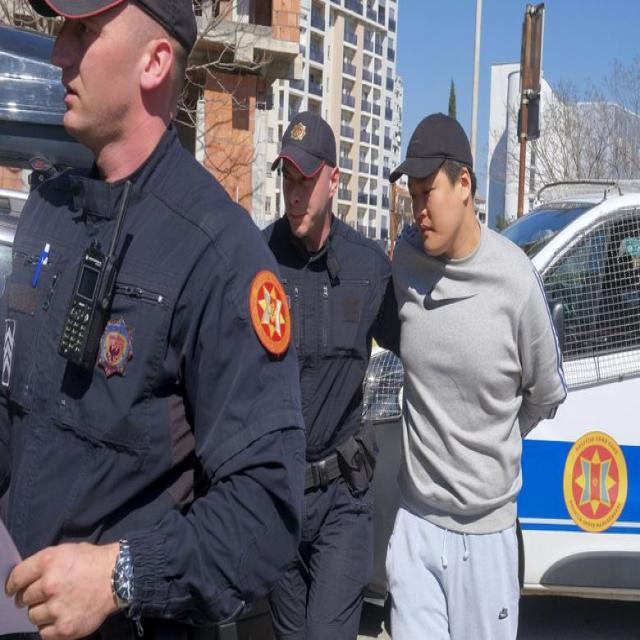police: (0, 0, 283, 640), (235, 107, 398, 640)
